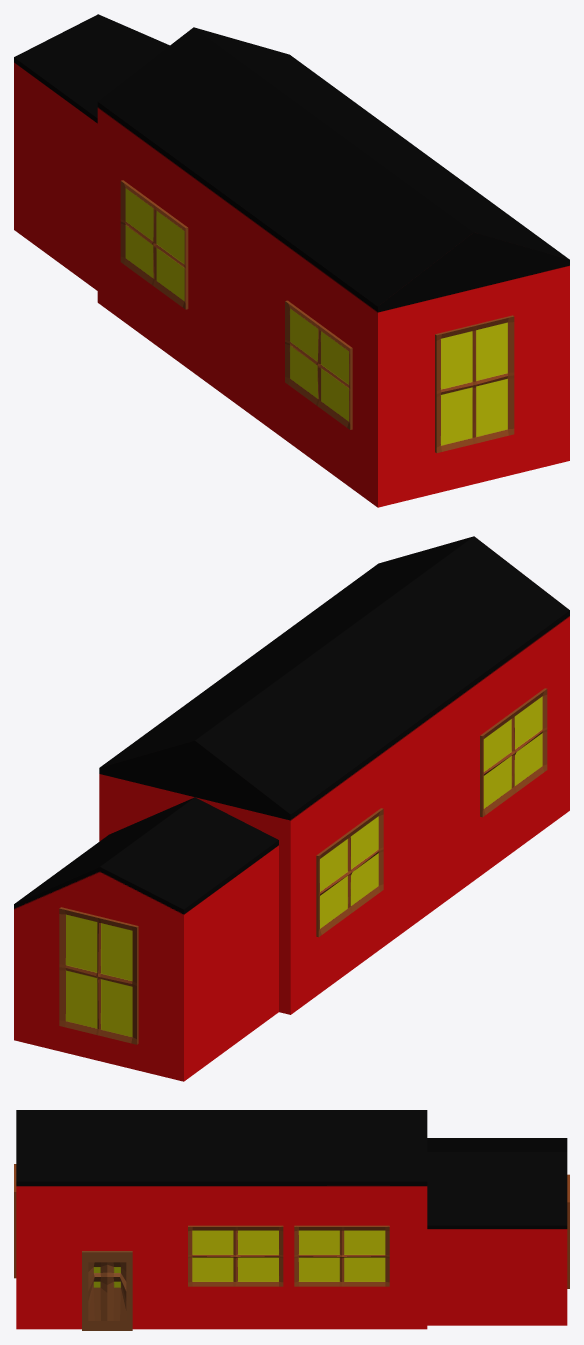
File: Husse.fbx
3 views of the same model, one above another, from view 1: azimuth 30°, elevation 25°; view 2: azimuth 150°, elevation 25°; view 3: azimuth 270°, elevation 25° (orthographic). The views are drawn at different scales.
Parts seen in each view (by area): view 1: House, Window, Window.004, Window.005; view 2: House, Window.003, Window.004, Window.005; view 3: House, Window.001, Window.002, Door, Window.003, Window.
Part boxes in pixels (x1,y1,x2,y2): House: (14, 14, 569, 507); Window: (435, 315, 514, 453); Window.004: (120, 180, 188, 309); Window.005: (285, 300, 352, 429); House: (14, 536, 569, 1081); Window.003: (59, 907, 138, 1044); Window.004: (316, 808, 383, 937); Window.005: (480, 688, 547, 817); House: (16, 1110, 567, 1329); Window.001: (294, 1225, 389, 1286); Window.002: (188, 1225, 283, 1286); Door: (82, 1251, 132, 1330); Window.003: (567, 1174, 569, 1288); Window: (14, 1164, 16, 1278).
Bounding box in the file's own units: 1708 × 626 × 518.
Materials: 3 (3 with a texture image).
